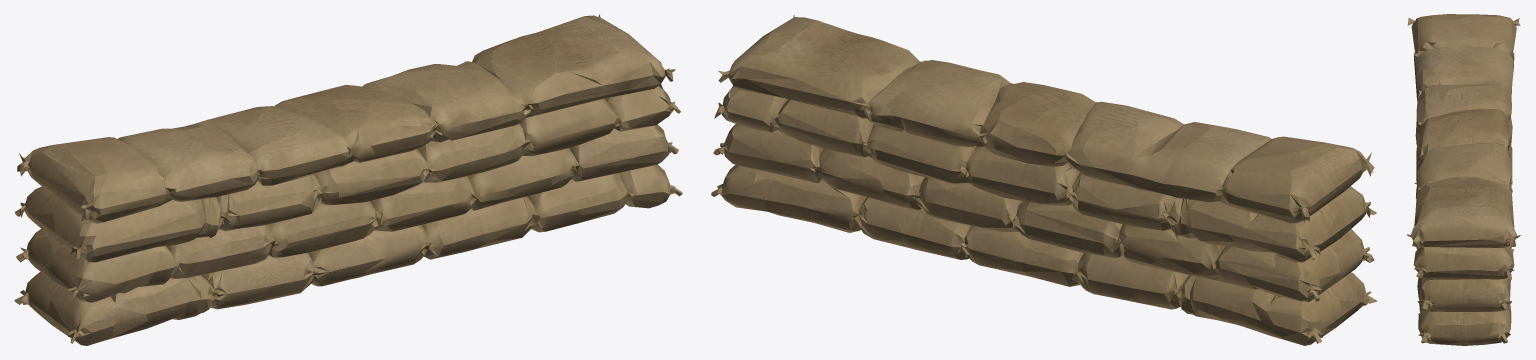
Rendered from sandbag.glb.
3 renders of one model, left to right at view 1: azimuth 30°, elevation 25°; view 2: azimuth 150°, elevation 25°; view 3: azimuth 270°, elevation 25°, orthographic. The views are drawn at different scales.
Size of the model in its own units: 1.9 by 0.5158 by 0.4114.
Materials: 1 (1 with a texture image).
